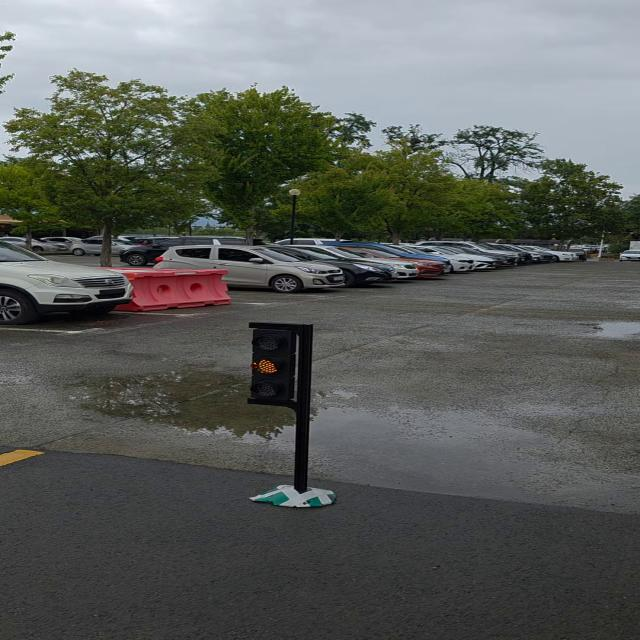yellow: (244, 326, 295, 404)
